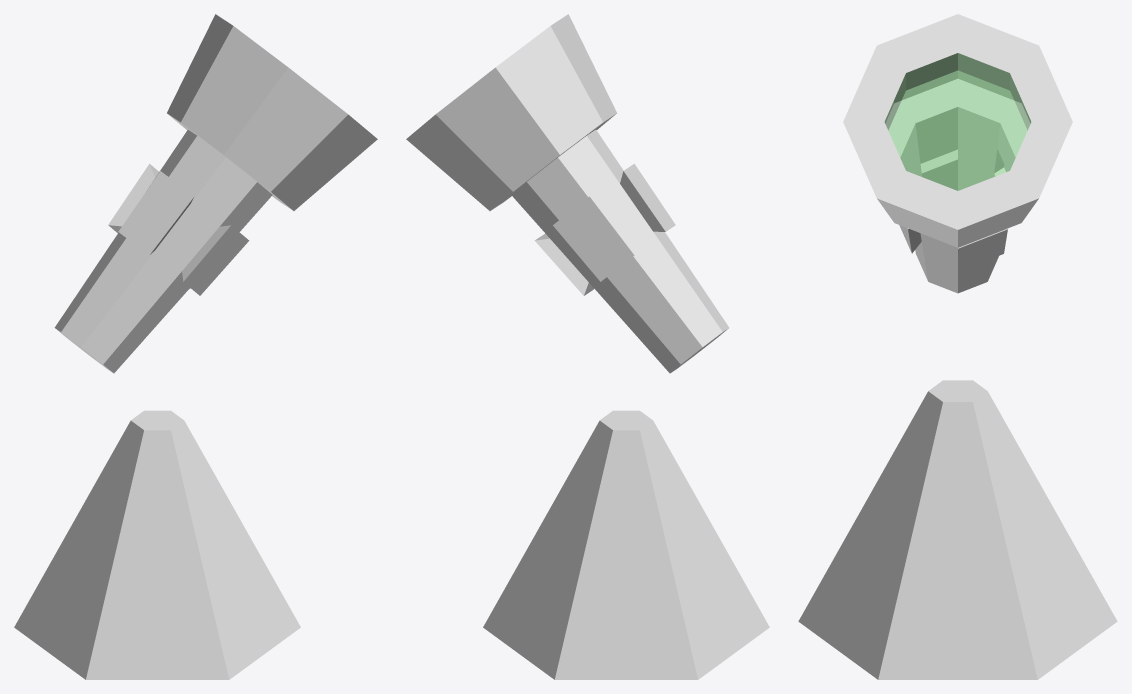
The model's file is Spaceship_LightModule.fbx.
3 views of the same model, side by side, from view 1: azimuth 30°, elevation 25°; view 2: azimuth 150°, elevation 25°; view 3: azimuth 270°, elevation 25° (orthographic). The views are drawn at different scales.
Parts seen in each view (by area): view 1: Cylinder.005, Cylinder.007; view 2: Cylinder.005, Cylinder.007; view 3: Cylinder.005, Cylinder.007.
Part boxes in pixels (bbox=[...]): Cylinder.005: bbox=[14, 410, 300, 679]; Cylinder.007: bbox=[54, 14, 377, 373]; Cylinder.005: bbox=[483, 410, 769, 679]; Cylinder.007: bbox=[406, 14, 729, 373]; Cylinder.005: bbox=[798, 380, 1117, 679]; Cylinder.007: bbox=[843, 14, 1072, 293].
Size of the model in its own units: 69.4 by 125 by 55.64.
